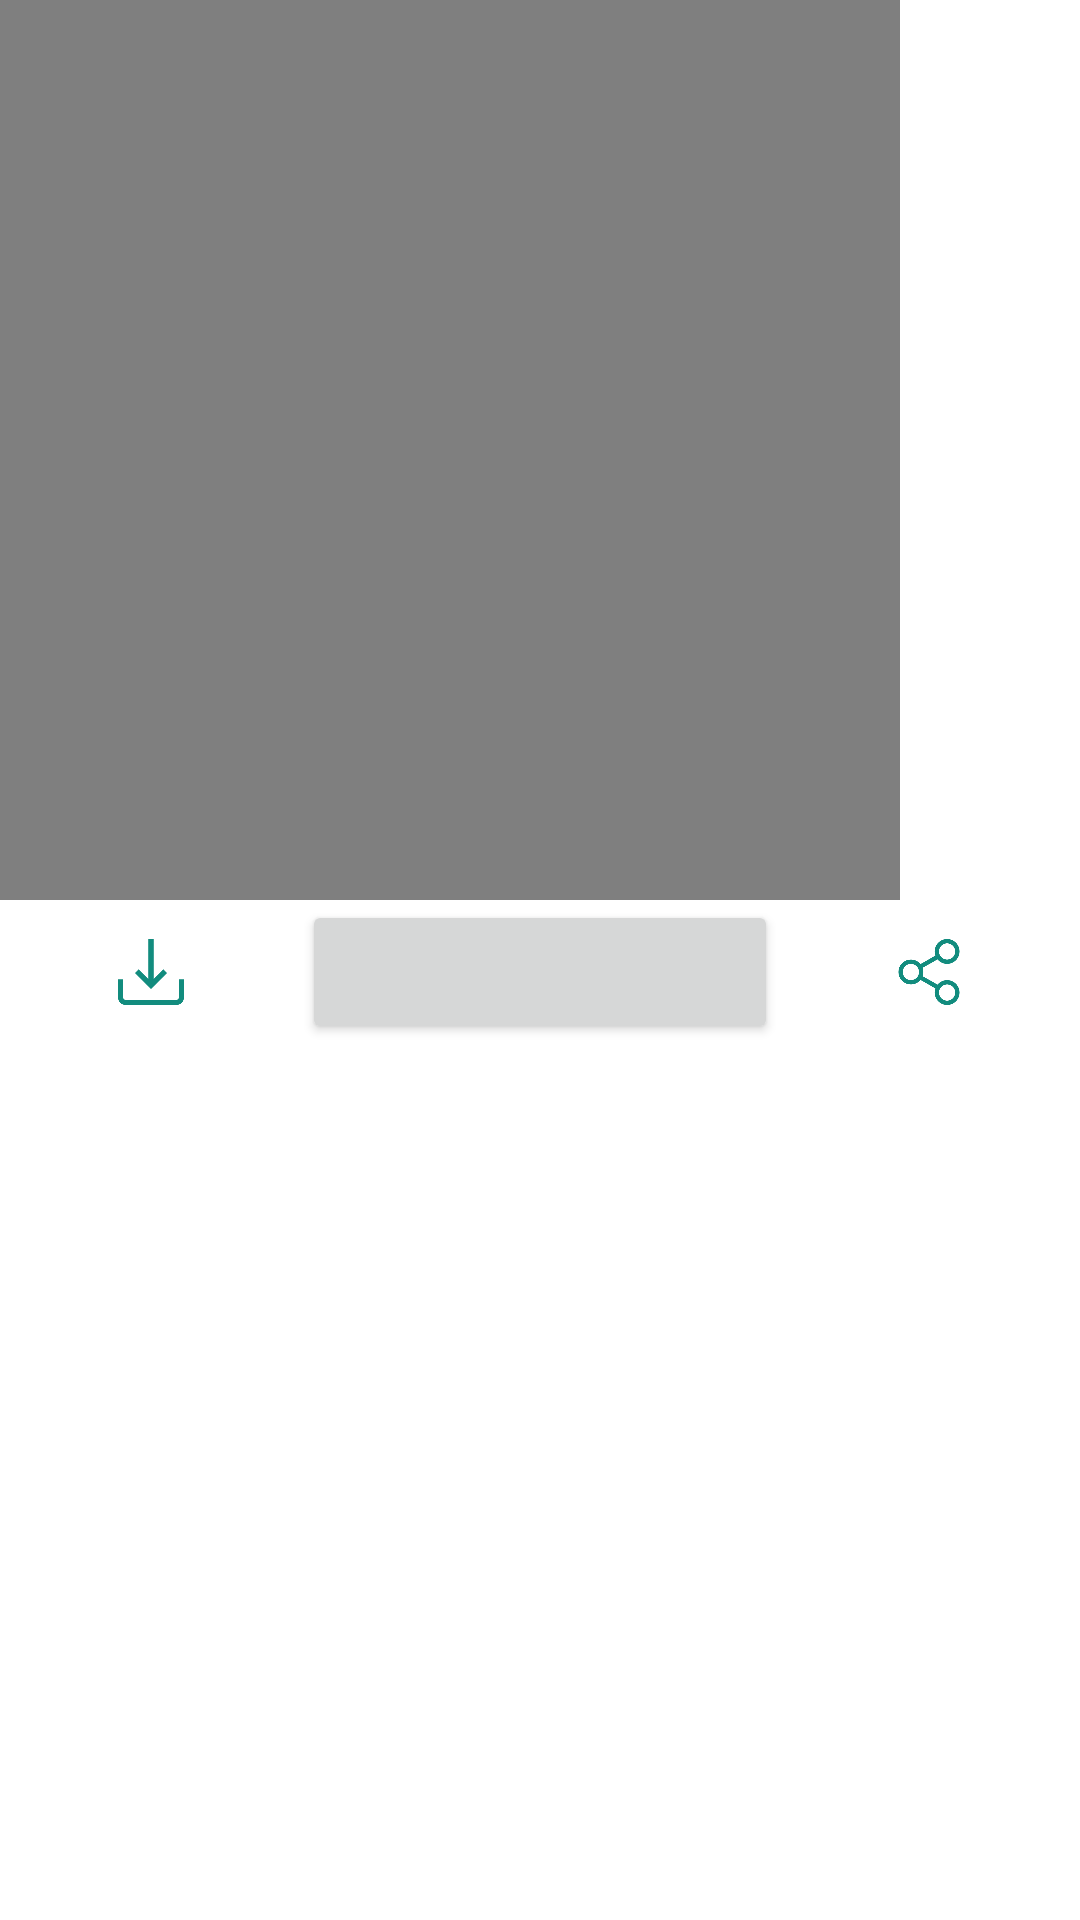

Where icons sit on this 1080px x 1920px app screen, as bbox=[x1, y1, x2, y2]:
download: bbox=[118, 939, 184, 1005]
share: bbox=[898, 939, 960, 1005]
